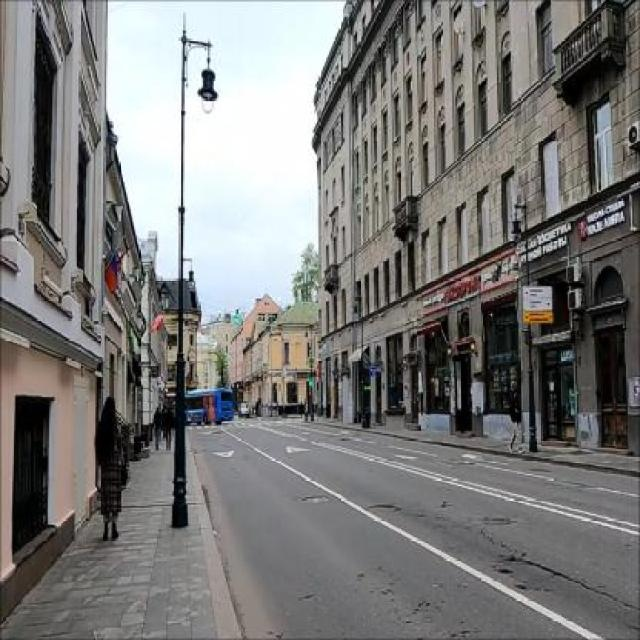Bus: (186, 388, 234, 424)
